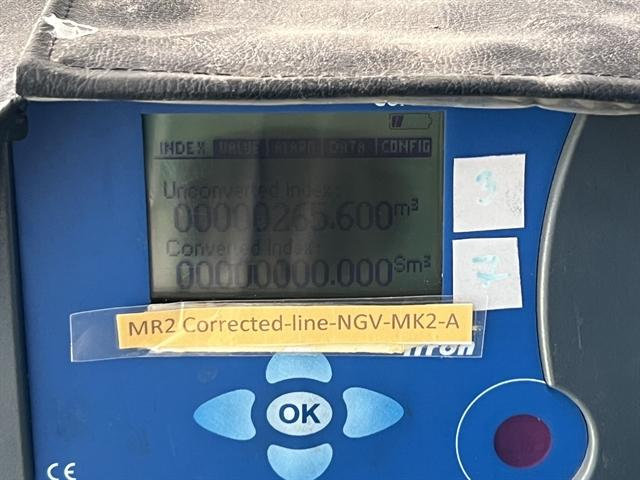digital_screen: (142, 111, 448, 306)
